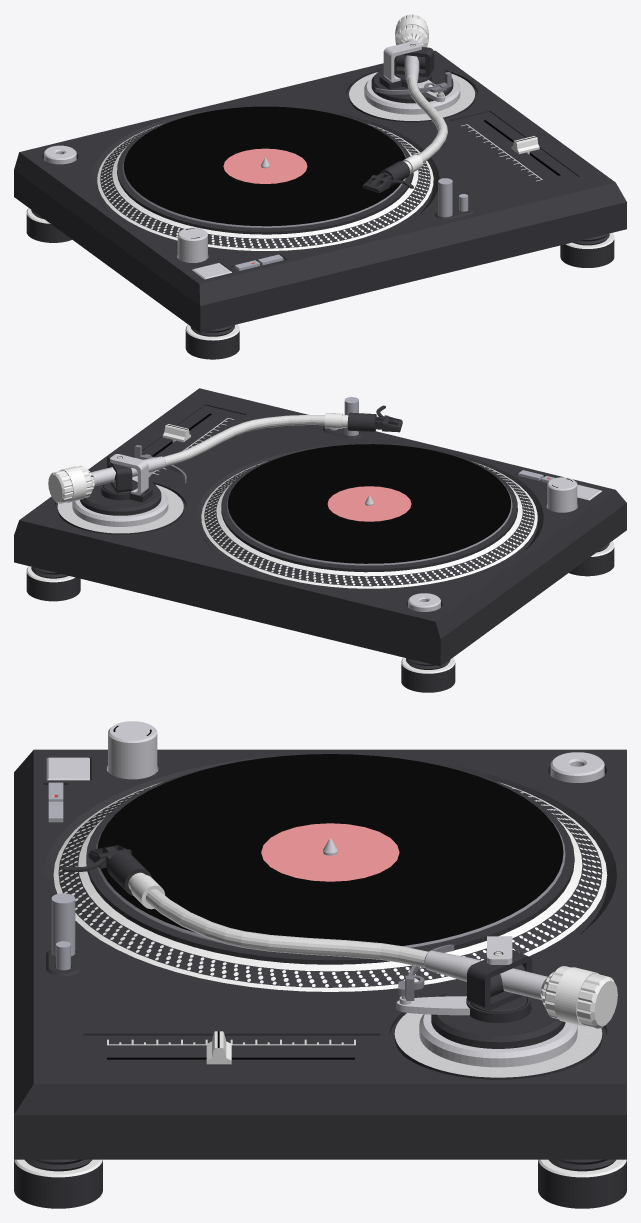
File: turntable.glb
3 views of the same model, one above another, from view 1: azimuth 30°, elevation 25°; view 2: azimuth 150°, elevation 25°; view 3: azimuth 270°, elevation 25° (orthographic). The views are drawn at different scales.
Visible parts, largest first — view 1: Object_24, Object_7, Object_40, Object_38, Object_33, Object_15, Object_21, Object_3, Object_5, Object_23, Object_29, Object_13 (+11 smaller); view 2: Object_24, Object_7, Object_40, Object_38, Object_15, Object_21, Object_33, Object_3, Object_14, Object_5, Object_30, Object_29 (+12 smaller); view 3: Object_24, Object_7, Object_33, Object_40, Object_38, Object_15, Object_3, Object_21, Object_14, Object_30, Object_5, Object_29 (+17 smaller).
Boxes of the visible parts, x1,y1,x2,y2 form: Object_24: (14,50,626,333); Object_7: (124,106,405,226); Object_40: (97,124,433,250); Object_38: (100,126,430,248); Object_33: (394,44,579,186); Object_15: (117,106,413,234); Object_21: (26,214,614,359); Object_3: (223,148,307,183); Object_5: (349,72,475,120); Object_23: (122,72,451,228); Object_29: (364,75,460,114); Object_13: (234,178,468,270); Object_24: (14,388,626,666); Object_7: (228,444,510,563); Object_40: (201,461,537,588); Object_38: (204,463,534,586); Object_15: (221,444,517,572); Object_21: (26,547,614,692); Object_33: (107,404,246,492); Object_3: (327,486,411,521); Object_14: (163,414,325,466); Object_5: (57,484,183,533); Object_30: (80,481,161,515); Object_29: (72,488,168,526); Object_24: (14,749,626,1159); Object_7: (97,754,563,945); Object_33: (83,949,532,1067); Object_40: (53,782,607,991); Object_38: (58,785,602,987); Object_15: (86,754,574,964); Object_3: (261,823,399,881); Object_21: (14,1160,626,1208); Object_14: (145,889,428,967); Object_30: (431,986,565,1048); Object_5: (394,1013,602,1077); Object_29: (419,1014,577,1067).
Bounding box in the file's own units: 0.41 × 0.114 × 0.31.
